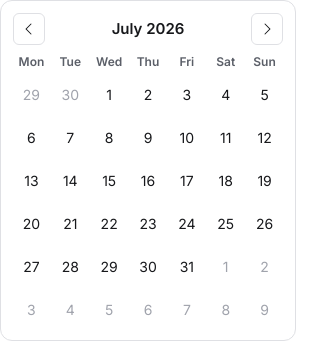
Test: CalendarGrid drill-up subviews › selects a month with Enter and restores focus to a sensible day
Click the button "July 2026" at (148, 29), box [112,18,184,40]
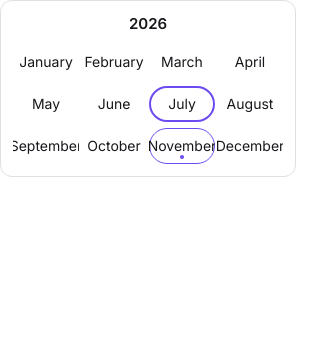
Press Home in the table named "Choose month, 2026", box [13,44,283,164]
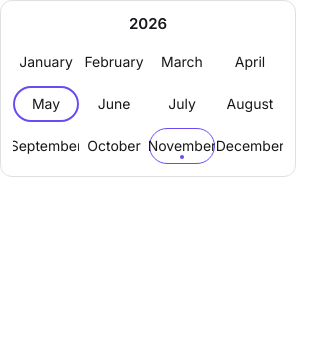
Press Enter in the table named "Choose month, 2026", box [13,44,283,164]
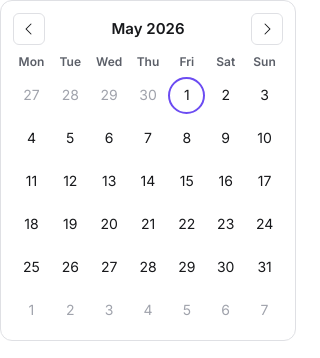
Now the heading "May 2026" is shown, box [112,18,184,40]
